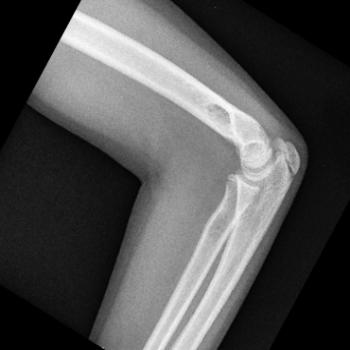Fracture: (278, 134, 304, 180)
